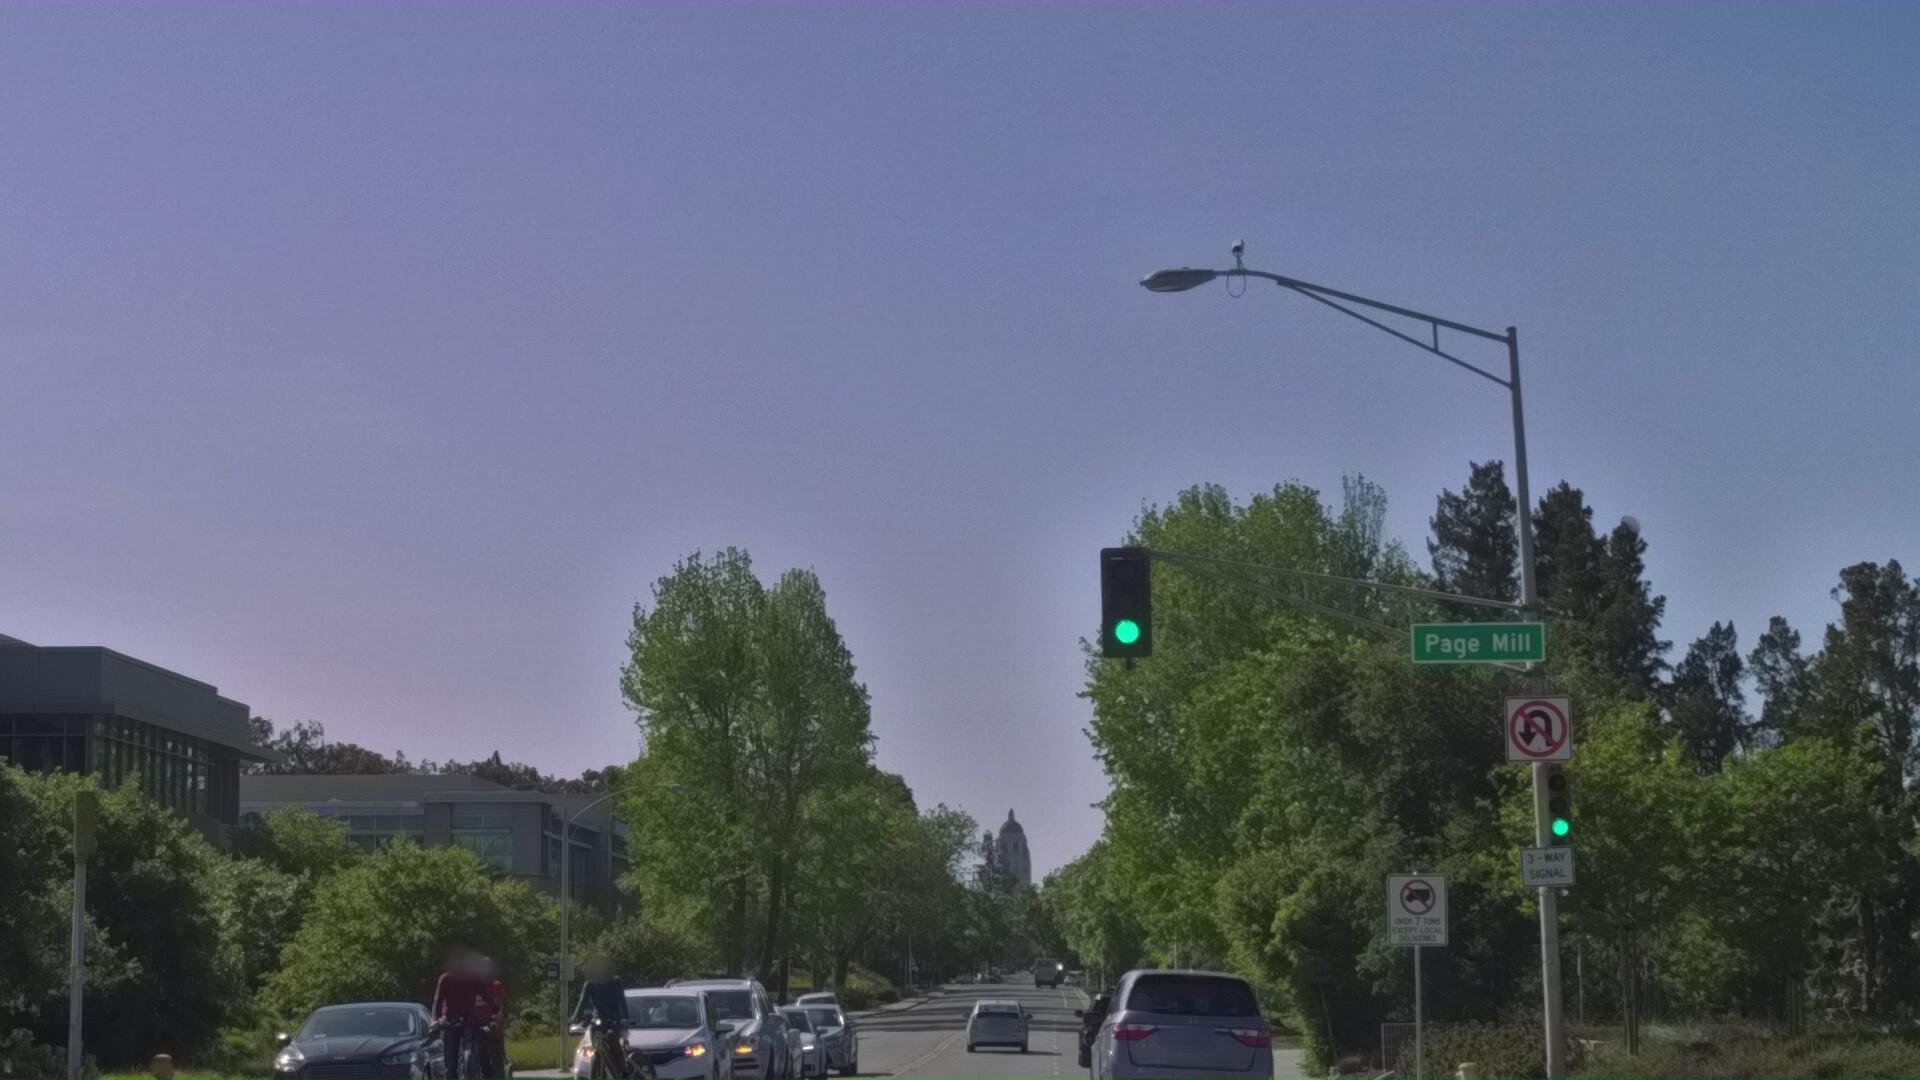bicycle: (541, 1025, 670, 1080), (411, 1025, 513, 1080), (423, 1034, 525, 1080)
car: (1079, 1044, 1270, 1080), (632, 1059, 799, 1080), (564, 1069, 746, 1080), (0, 977, 18, 1080)
